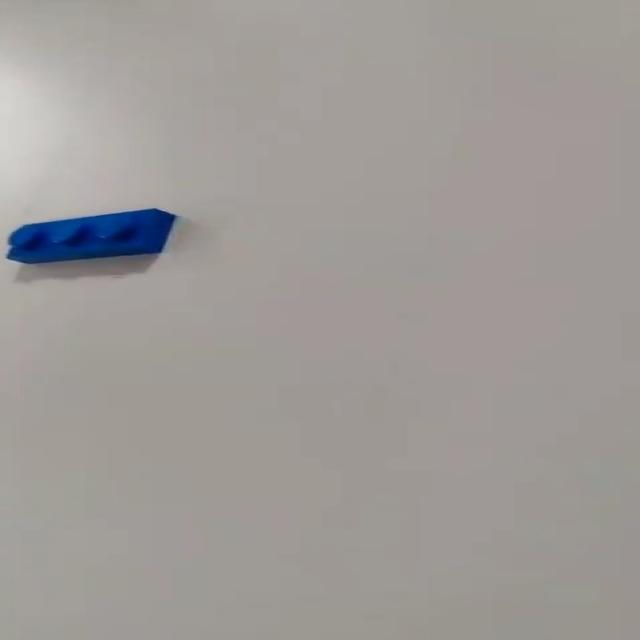C3x1x0: (8, 208, 185, 268)
